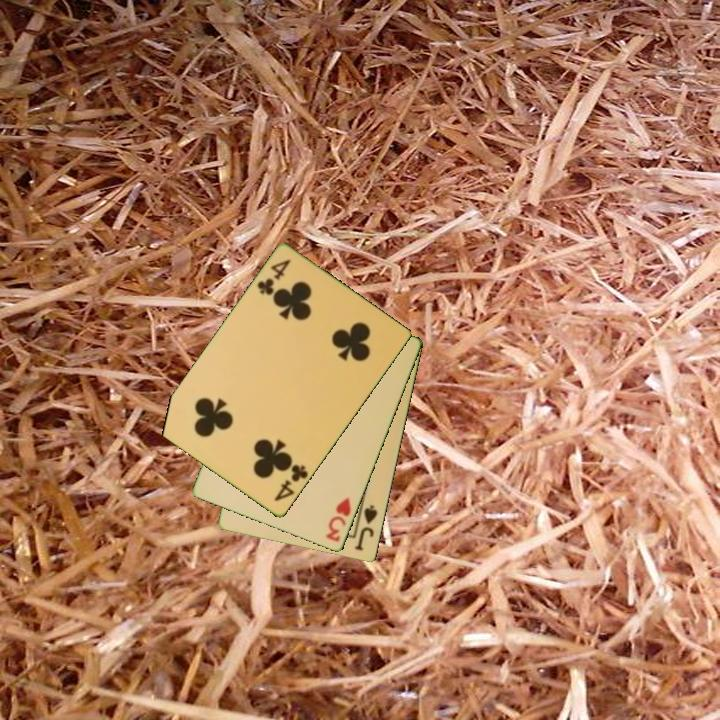3h: (323, 494, 354, 545)
4c: (271, 461, 311, 505), (254, 256, 294, 299)
Js: (351, 501, 381, 554)
